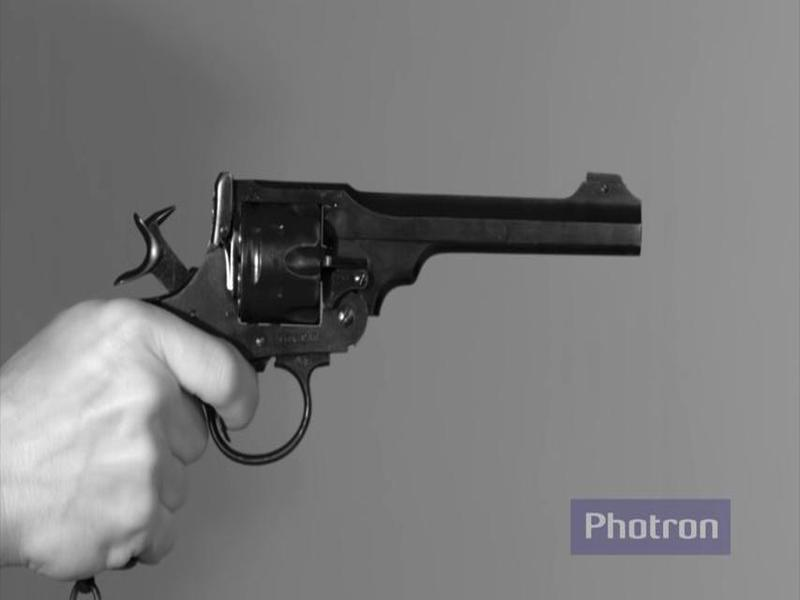Revolver: (145, 153, 677, 478)
